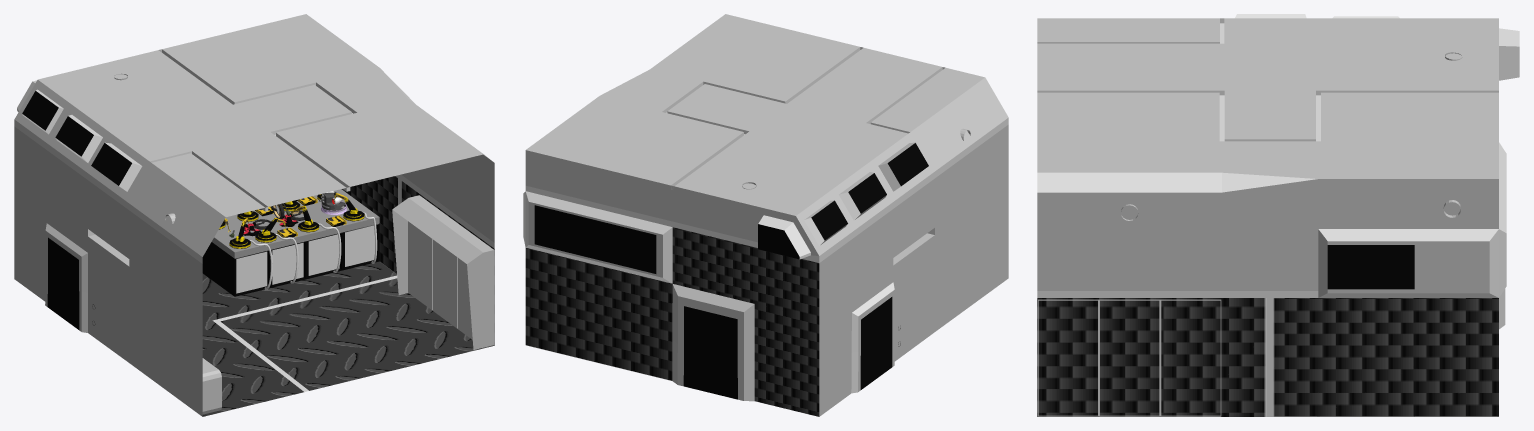
Rendered from Room_mesh.fbx.
The picture shows the model from 3 angles, left to right: view 1: azimuth 30°, elevation 25°; view 2: azimuth 150°, elevation 25°; view 3: azimuth 270°, elevation 25°; orthographic projection. The views are drawn at different scales.
Parts seen in each view (by area): view 1: ROOM, Table.001, Cube.002, Cube.004, FAN; view 2: ROOM, FAN; view 3: ROOM, Cube.002.
Part boxes in pixels (x1,y1,x2,y2): ROOM: (14, 14, 494, 416); Table.001: (202, 189, 379, 296); Cube.002: (392, 195, 494, 349); Cube.004: (408, 221, 472, 339); FAN: (92, 304, 221, 414); ROOM: (523, 14, 1008, 416); FAN: (898, 239, 1008, 346); ROOM: (1037, 14, 1519, 416); Cube.002: (1038, 299, 1221, 416).
Size of the model in its own units: 41211 by 25499 by 46506.
